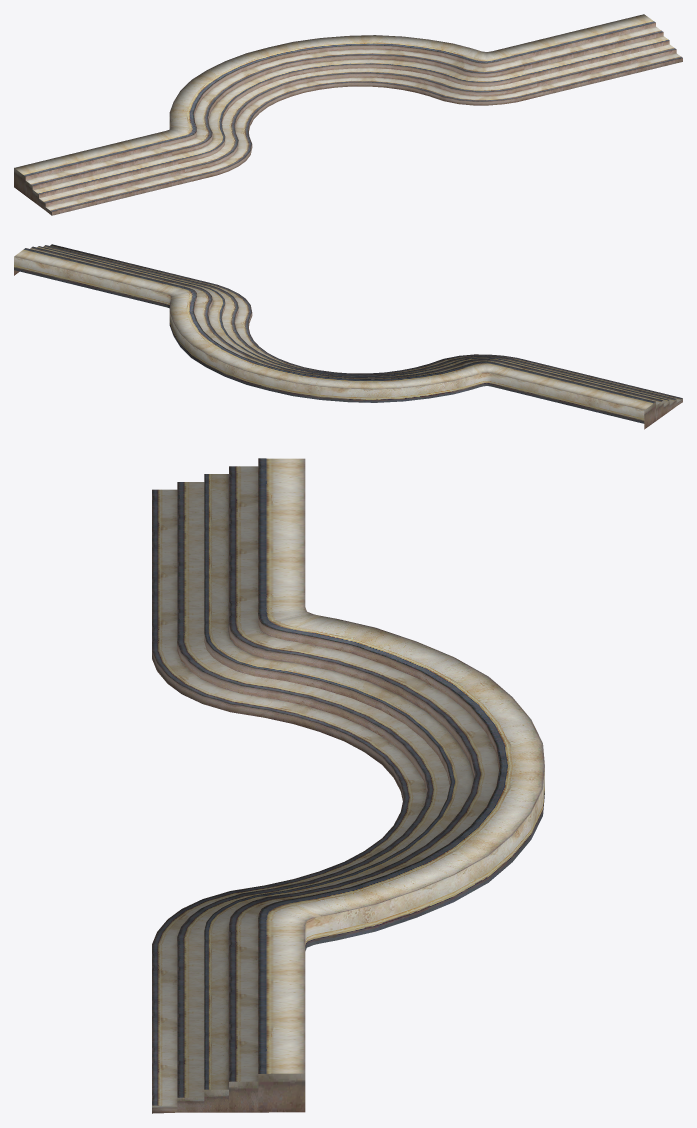
The model's file is S_Build_City110.FBX.
3 renders of one model, top to bottom at view 1: azimuth 30°, elevation 25°; view 2: azimuth 150°, elevation 25°; view 3: azimuth 270°, elevation 25°, orthographic. The views are drawn at different scales.
Parts seen in each view (by area): view 1: S_Build_City110; view 2: S_Build_City110; view 3: S_Build_City110.
Boxes of the visible parts, x1,y1,x2,y2 form: S_Build_City110: (14,14,682,215); S_Build_City110: (14,244,682,429); S_Build_City110: (152,458,544,1113).
Size of the model in its own units: 16179 by 482 by 4362.
